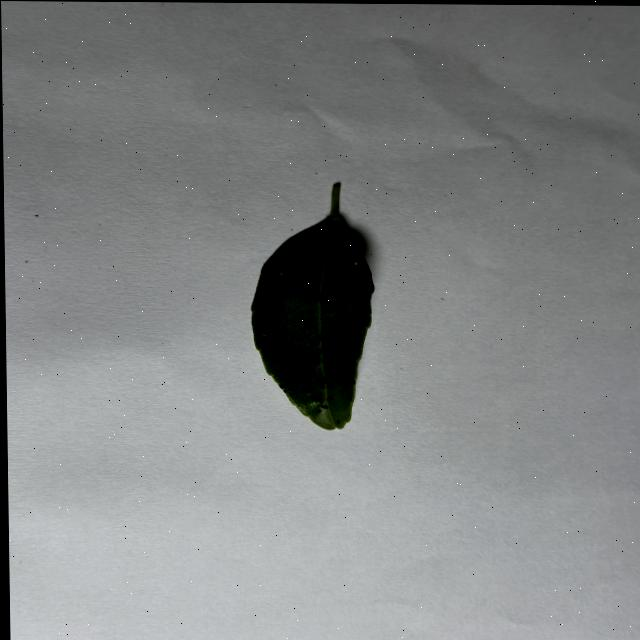sooty_mold: (250, 182, 373, 429)
